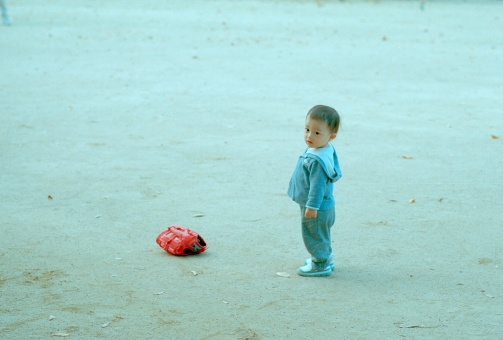em pe: (281, 98, 346, 276)
